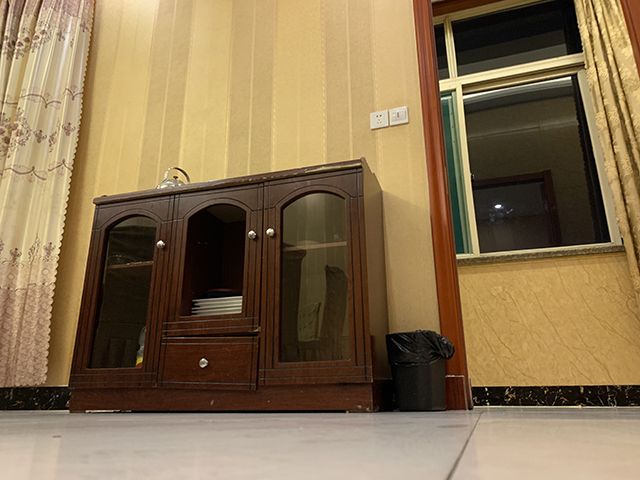cabinet: (65, 155, 392, 415)
curtain: (1, 1, 96, 388)
trashcan: (386, 328, 457, 413)
